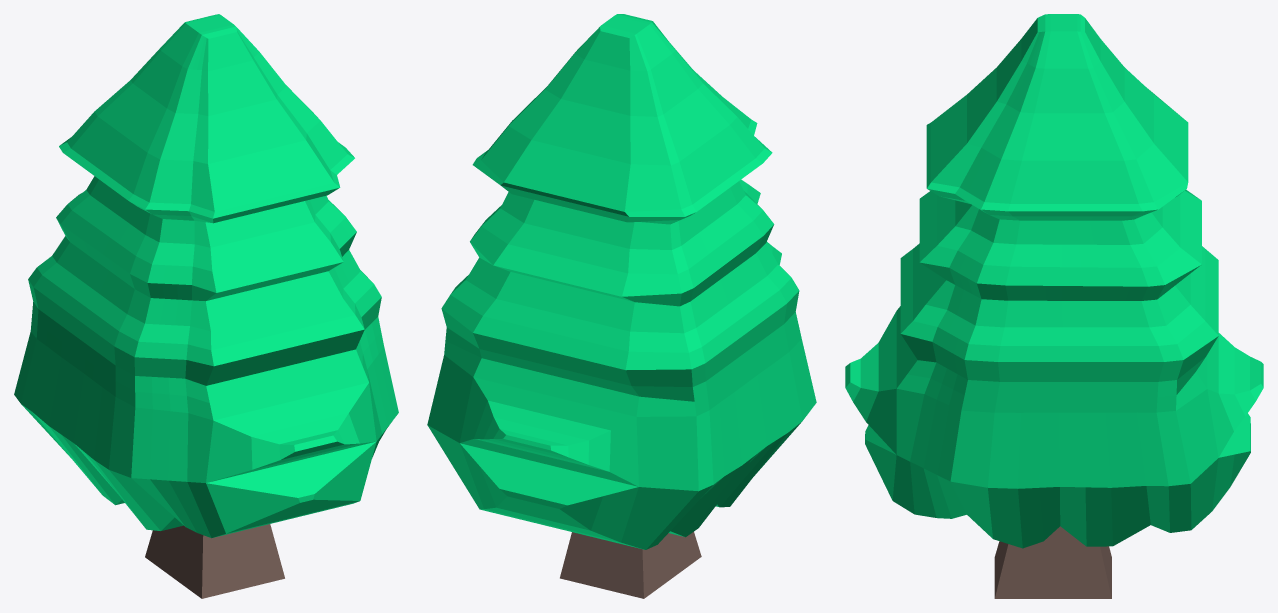
Rendered from pinheiro.fbx.
3 renders of one model, left to right at view 1: azimuth 30°, elevation 25°; view 2: azimuth 150°, elevation 25°; view 3: azimuth 270°, elevation 25°, orthographic. The views are drawn at different scales.
Parts seen in each view (by area): view 1: Cube; view 2: Cube; view 3: Cube.
Part boxes in pixels (x1,y1,x2,y2): Cube: (14, 14, 398, 598); Cube: (427, 14, 816, 598); Cube: (845, 14, 1263, 598).
Size of the model in its own units: 295 by 551 by 376.
